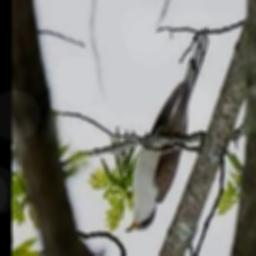Cuckoo: (124, 34, 208, 233)
